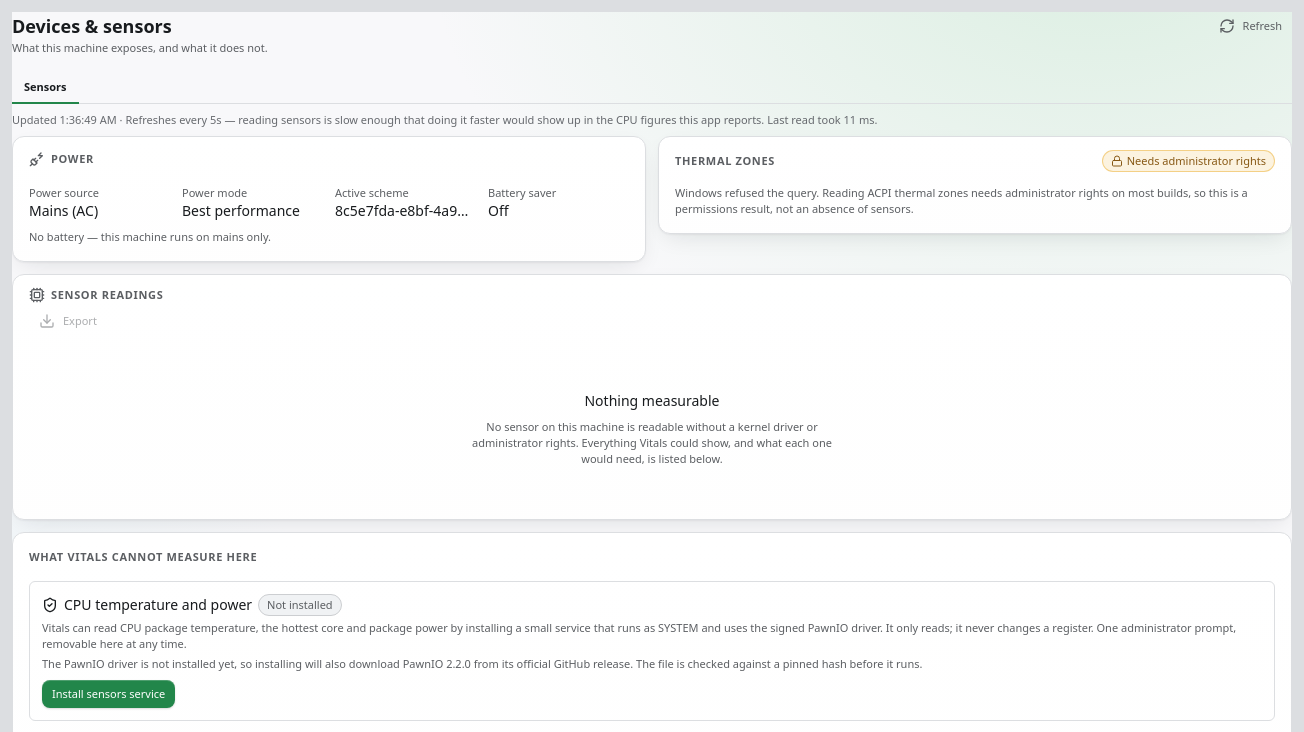
Test: the CPU sensors service › treats a dismissed UAC prompt as an answer, not a failure
The width and height of the screenshot is (1304, 732).
Expected: the heading "CPU temperature and power" is shown, top-left (64, 595), bottom-right (252, 615)
Step 1. Click the button "Install sensors service" → (109, 694), box top-left (42, 680), bottom-right (175, 708)
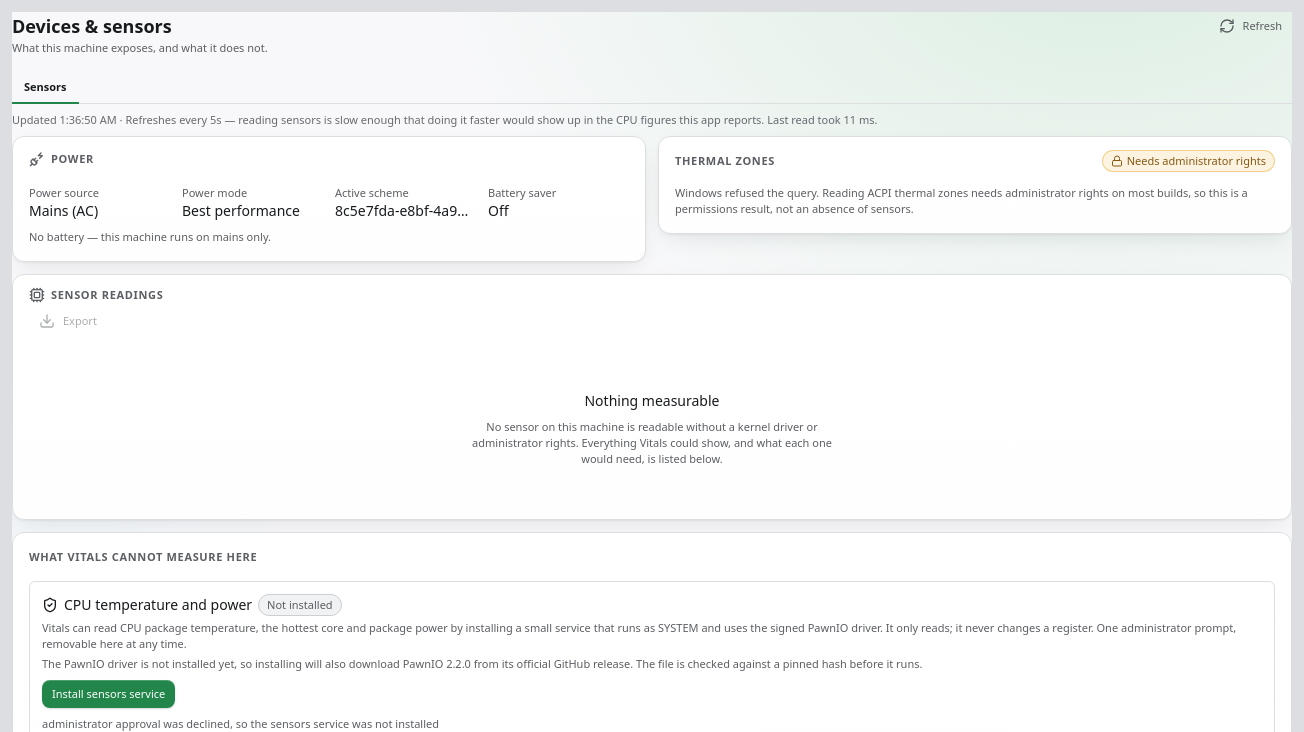
Expected: the text "administrator approval was declined, so the sensors service was not installed" is shown, top-left (42, 716), bottom-right (439, 731)
